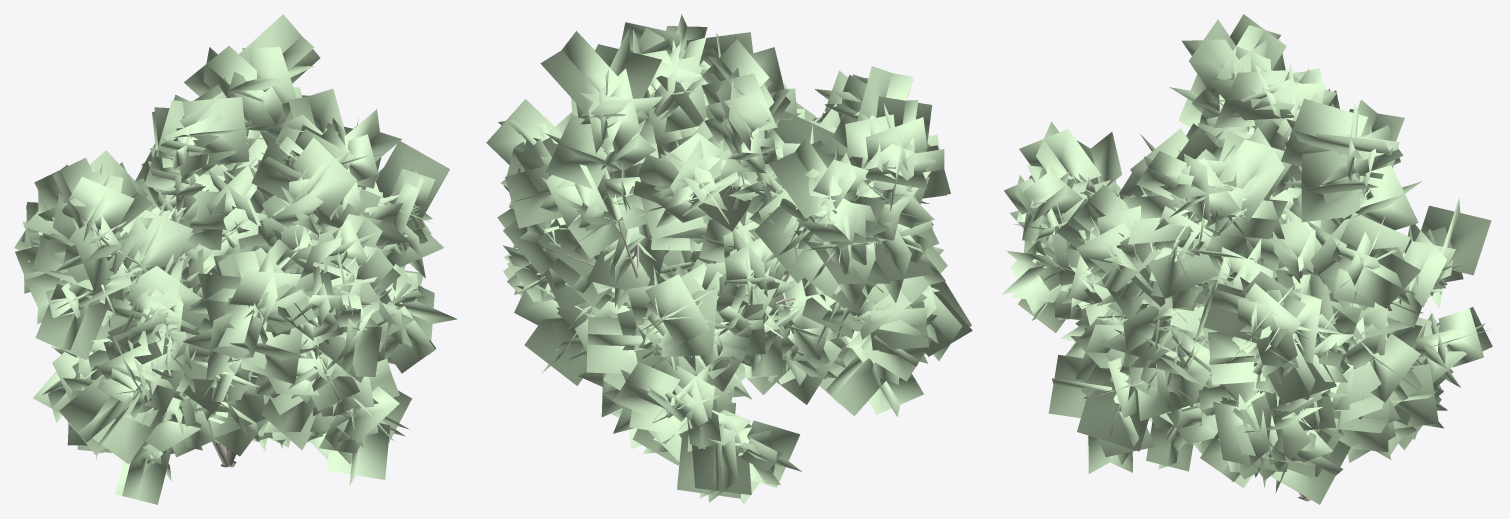
Rendered from bush_1_v1_lod0.glb.
3 renders of one model, left to right at view 1: azimuth 30°, elevation 25°; view 2: azimuth 150°, elevation 25°; view 3: azimuth 270°, elevation 25°, orthographic. The views are drawn at different scales.
Visible parts, largest first — view 1: Leaves; view 2: Leaves; view 3: Leaves.
Boxes of the visible parts, bbox=[...] form: Leaves: bbox=[14, 14, 457, 504]; Leaves: bbox=[486, 14, 972, 504]; Leaves: bbox=[1002, 14, 1492, 504].
Bounding box in the file's own units: 30.42 × 28.48 × 29.32.
